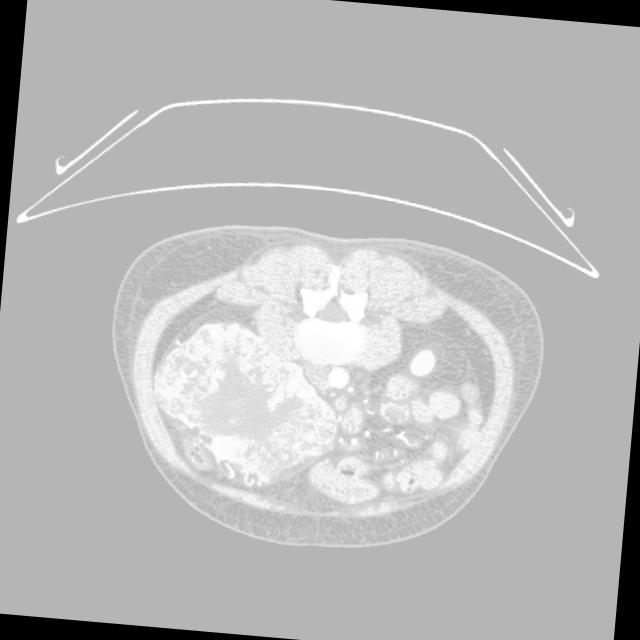TUMOR: (127, 265, 557, 496)
